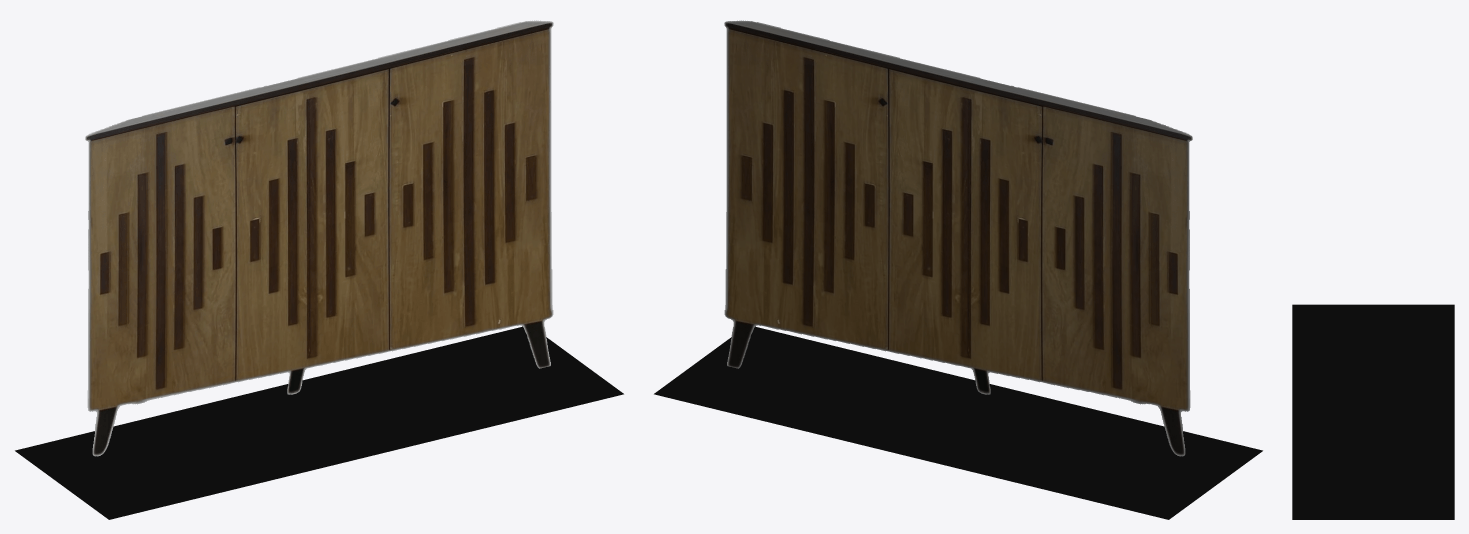
The model's file is arm-bf3cdf2114.glb.
3 renders of one model, left to right at view 1: azimuth 30°, elevation 25°; view 2: azimuth 150°, elevation 25°; view 3: azimuth 270°, elevation 25°, orthographic. The views are drawn at different scales.
Size of the model in its own units: 1.32 by 0.8618 by 0.42.
2 materials, 2 textured.
